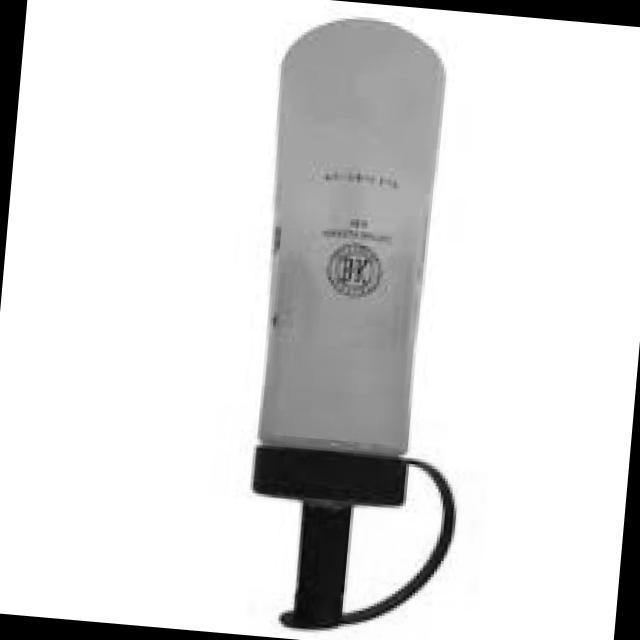good: (197, 31, 531, 640)
